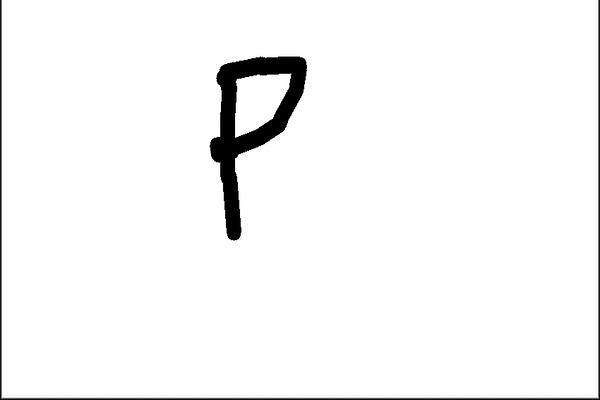P: (200, 45, 321, 245)
